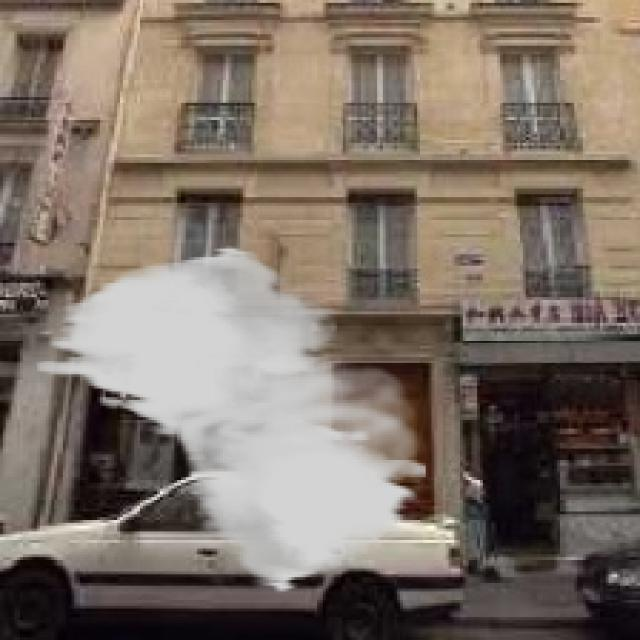smoke: (37, 246, 429, 594)
